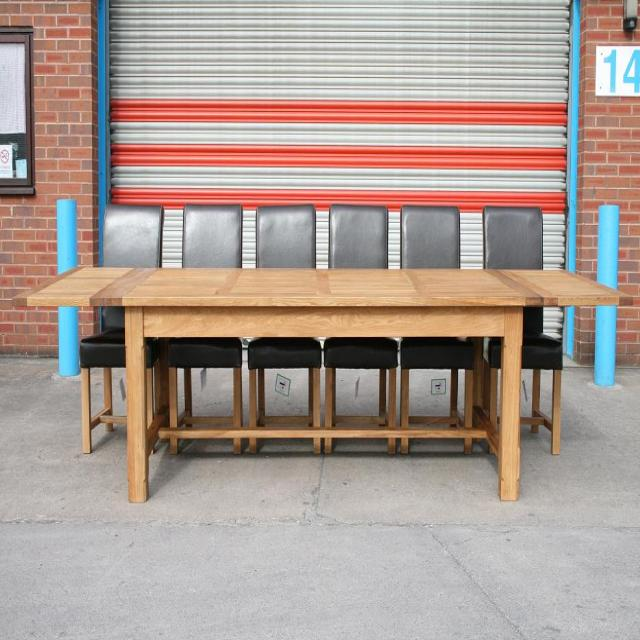table: (8, 261, 636, 508)
